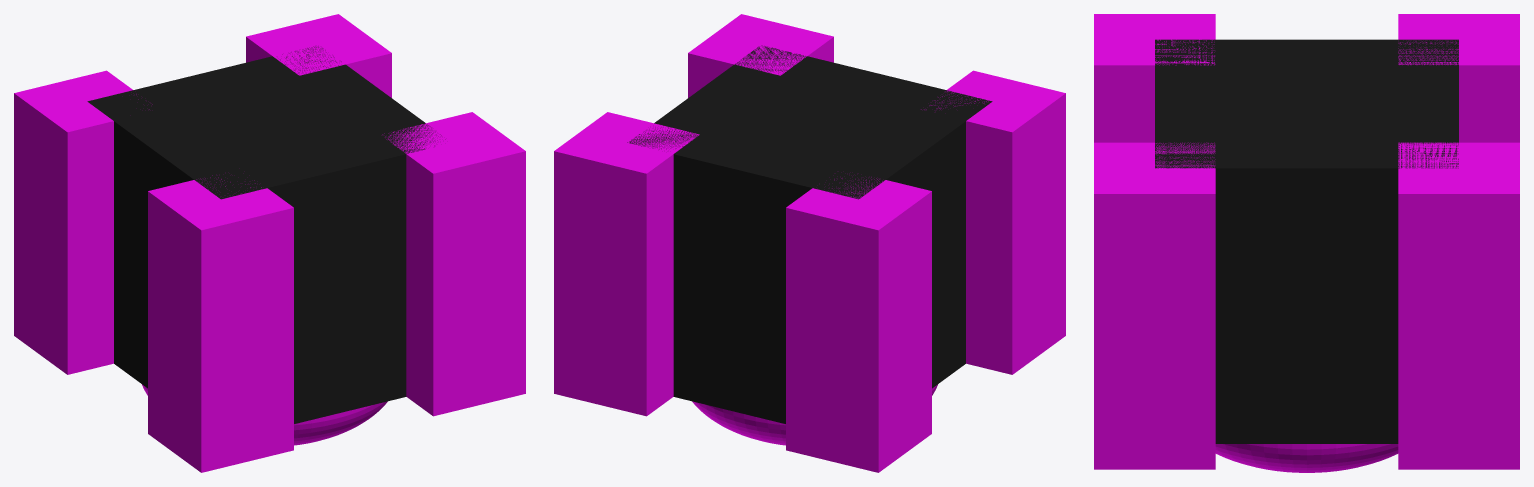
File: vanguardCommandCenter.obj
3 renders of one model, left to right at view 1: azimuth 30°, elevation 25°; view 2: azimuth 150°, elevation 25°; view 3: azimuth 270°, elevation 25°, orthographic. The views are drawn at different scales.
Parts seen in each view (by area): view 1: Cube.001, Cube.002, Cube.004, Cube.003, Cube, Sphere; view 2: Cube.001, Cube.003, Cube, Cube.002, Cube.004, Sphere; view 3: Cube.001, Cube, Cube.004, Cube.003, Cube.002, Sphere.
Part boxes in pixels (x1=…): Cube.001: x1=87, y1=46, x2=445, y2=423; Cube.002: x1=148, y1=175, x2=293, y2=472; Cube.004: x1=382, y1=112, x2=525, y2=416; Cube.003: x1=14, y1=70, x2=152, y2=374; Cube: x1=246, y1=14, x2=391, y2=97; Sphere: x1=142, y1=384, x2=387, y2=445; Cube.001: x1=627, y1=45, x2=992, y2=423; Cube.003: x1=786, y1=177, x2=931, y2=472; Cube: x1=554, y1=112, x2=699, y2=416; Cube.002: x1=921, y1=70, x2=1065, y2=374; Cube.004: x1=688, y1=14, x2=833, y2=97; Sphere: x1=692, y1=384, x2=937, y2=445; Cube.001: x1=1155, y1=39, x2=1458, y2=443; Cube: x1=1398, y1=142, x2=1519, y2=469; Cube.004: x1=1094, y1=142, x2=1215, y2=469; Cube.003: x1=1398, y1=14, x2=1519, y2=142; Cube.002: x1=1094, y1=14, x2=1215, y2=142; Sphere: x1=1215, y1=444, x2=1398, y2=472.
Bounding box in the file's own units: 112 × 99.95 × 112.
